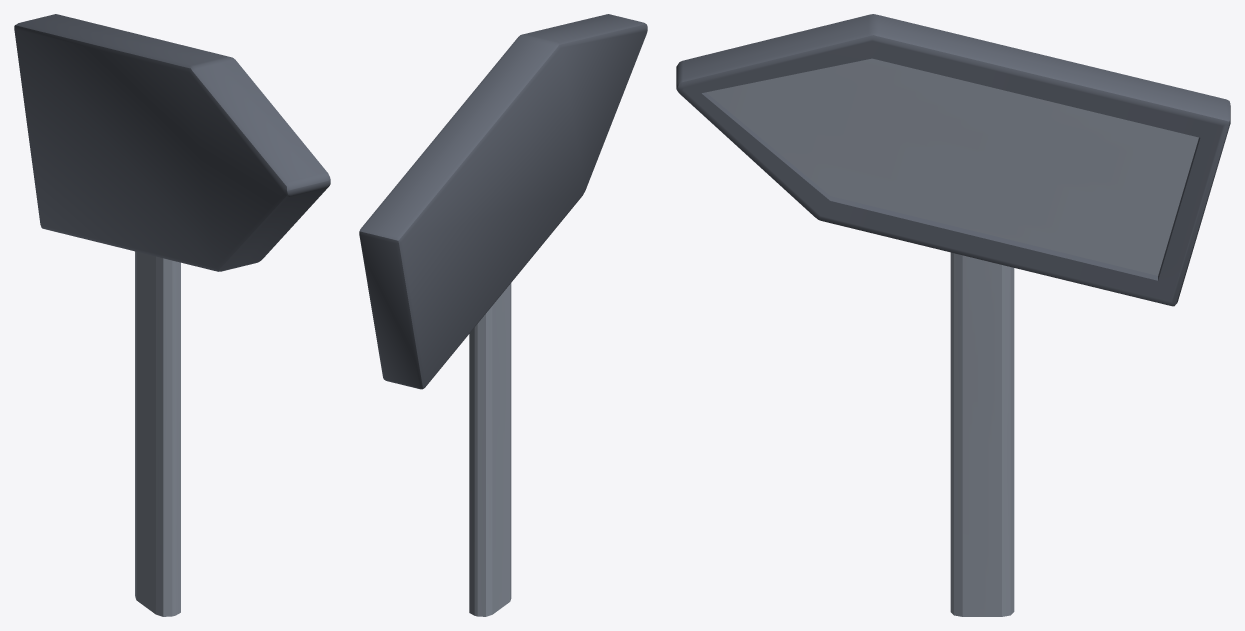
File: M_Sign_space_3.fbx
The picture shows the model from 3 angles, left to right: view 1: azimuth 30°, elevation 25°; view 2: azimuth 150°, elevation 25°; view 3: azimuth 270°, elevation 25°; orthographic projection. The views are drawn at different scales.
Visible parts, largest first — view 1: M_Sign_space_2; view 2: M_Sign_space_2; view 3: M_Sign_space_2.
Boxes of the visible parts, bbox=[...] form: M_Sign_space_2: bbox=[14, 14, 330, 616]; M_Sign_space_2: bbox=[359, 14, 647, 616]; M_Sign_space_2: bbox=[676, 14, 1230, 616].
Size of the model in its own units: 19.21 by 231 by 197.
